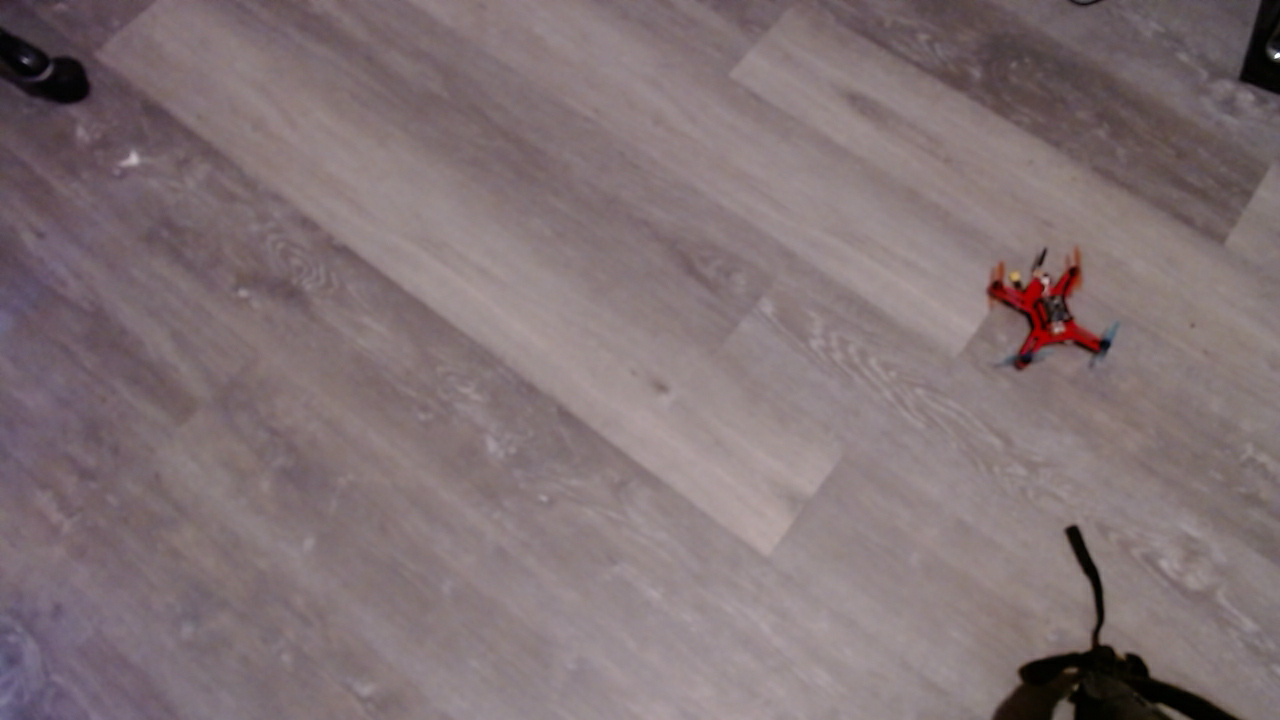crazyflie: (981, 244, 1131, 390)
